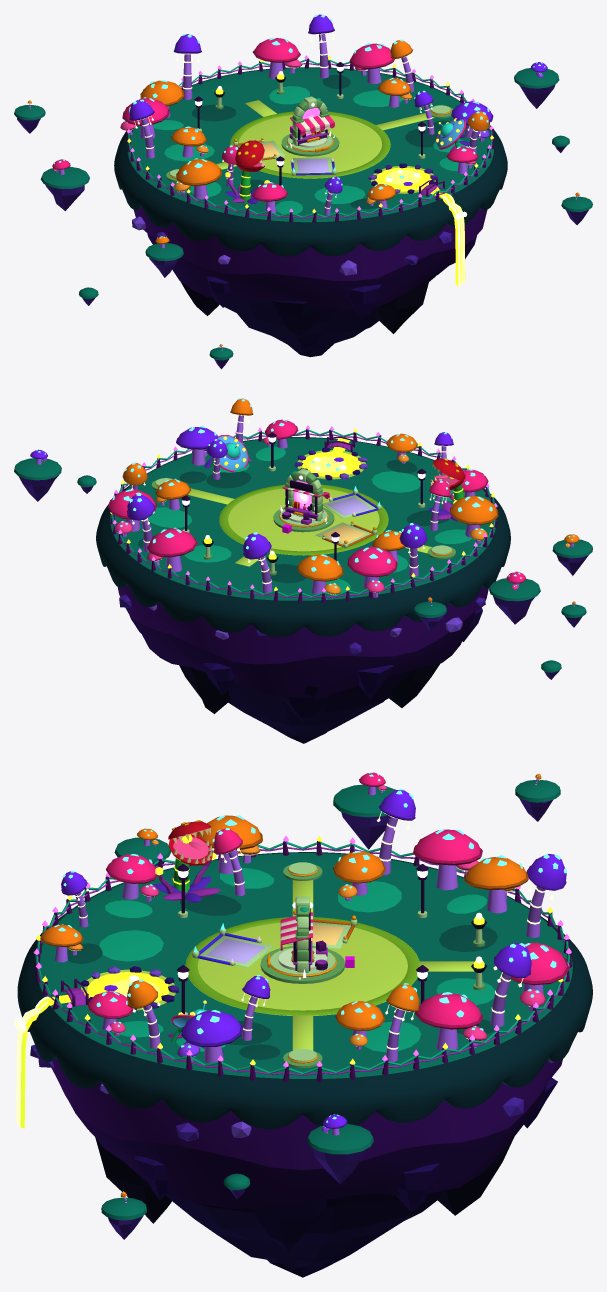
File: alien_jungle_island.fbx
3 renders of one model, top to bottom at view 1: azimuth 30°, elevation 25°; view 2: azimuth 150°, elevation 25°; view 3: azimuth 270°, elevation 25°, orthographic. The views are drawn at different scales.
Parts seen in each view (by area): view 1: AlienJungle_Island, AlienJungle_Trees, AlienJungle_Paths, AlienJungle_Dressing, AlienJungle_FloatingRocks, AlienJungle_Glow, AlienJungle_BossPlinth, AlienJungle_Stall, AlienJungle_Portal; view 2: AlienJungle_Island, AlienJungle_Trees, AlienJungle_Paths, AlienJungle_Dressing, AlienJungle_FloatingRocks, AlienJungle_Glow, AlienJungle_Stall, AlienJungle_Portal, AlienJungle_BossPlinth; view 3: AlienJungle_Island, AlienJungle_Trees, AlienJungle_Paths, AlienJungle_Dressing, AlienJungle_FloatingRocks, AlienJungle_Glow, AlienJungle_BossPlinth, AlienJungle_Stall, AlienJungle_Portal.
Part boxes in pixels (x1,y1,x2,y2): AlienJungle_Island: [114, 67, 507, 357]; AlienJungle_Trees: [120, 14, 493, 214]; AlienJungle_Paths: [166, 100, 453, 181]; AlienJungle_Dressing: [126, 58, 494, 222]; AlienJungle_FloatingRocks: [14, 62, 592, 369]; AlienJungle_Glow: [28, 14, 579, 350]; AlienJungle_BossPlinth: [281, 133, 339, 156]; AlienJungle_Stall: [289, 115, 334, 145]; AlienJungle_Portal: [286, 96, 334, 148]; AlienJungle_Island: [96, 437, 510, 743]; AlienJungle_Trees: [107, 398, 498, 598]; AlienJungle_Paths: [151, 478, 455, 566]; AlienJungle_Dressing: [110, 429, 496, 602]; AlienJungle_FloatingRocks: [14, 449, 592, 679]; AlienJungle_Glow: [36, 398, 574, 606]; AlienJungle_Stall: [282, 480, 329, 524]; AlienJungle_Portal: [280, 468, 327, 523]; AlienJungle_BossPlinth: [273, 507, 334, 532]; AlienJungle_Island: [17, 852, 592, 1277]; AlienJungle_Trees: [40, 790, 569, 1063]; AlienJungle_Paths: [185, 862, 474, 1068]; AlienJungle_Dressing: [33, 820, 571, 1082]; AlienJungle_FloatingRocks: [101, 772, 560, 1239]; AlienJungle_Glow: [14, 772, 571, 1202]; AlienJungle_BossPlinth: [260, 946, 345, 983]; AlienJungle_Stall: [280, 908, 327, 970]; AlienJungle_Portal: [292, 896, 313, 979].
Size of the model in its own units: 181 by 92.87 by 123.
